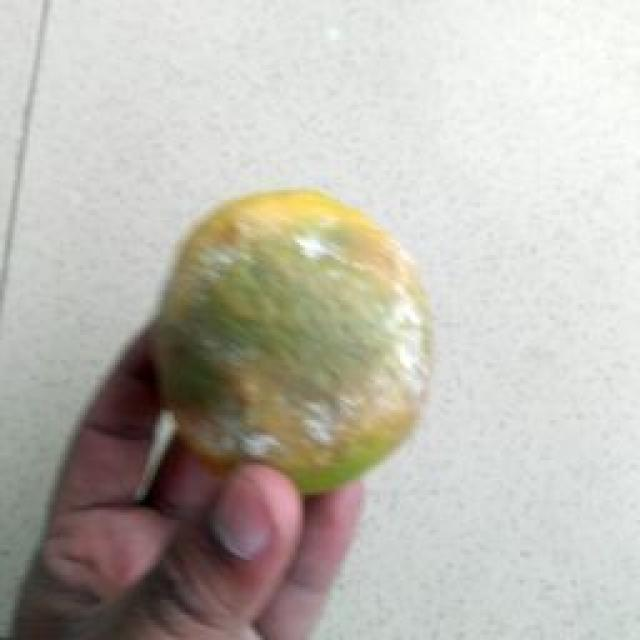Bad_Orange: (155, 190, 432, 493)
